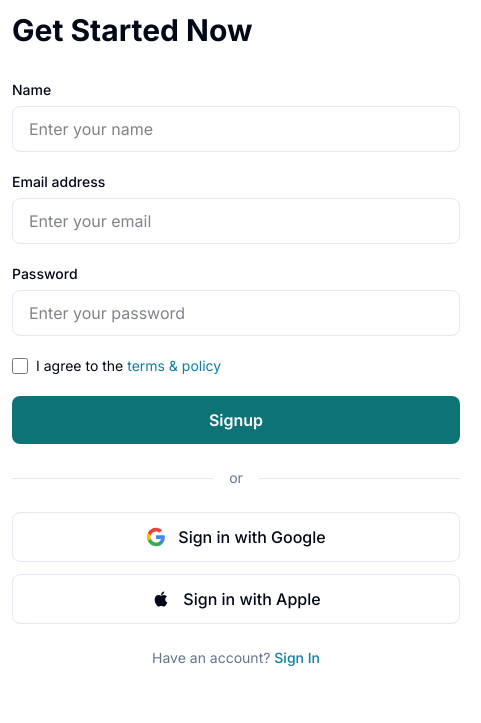
Test: SignUpForm › handles Google sign-in failure
Click the button "Sign in with Google" at (236, 537), box [12,512,460,562]
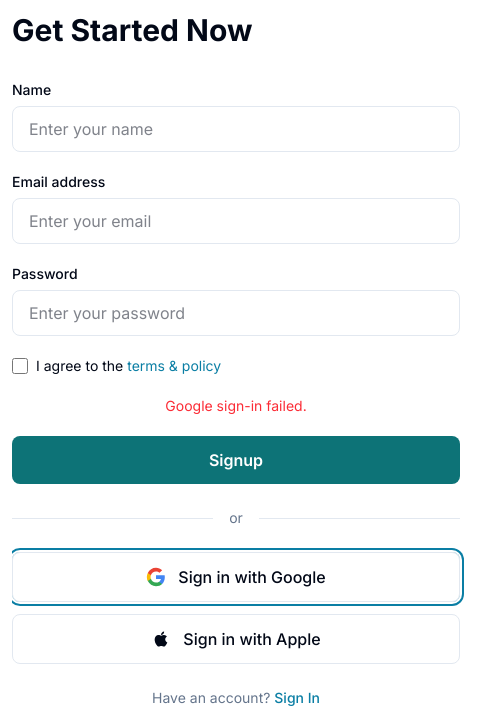
Expected: the text "Google sign-in failed." is shown, [165,397,307,414]
